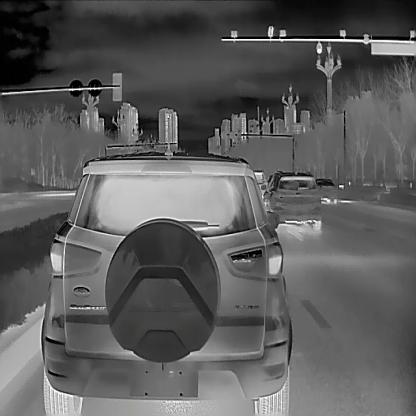car: (41, 150, 292, 414), (262, 167, 320, 230), (314, 177, 336, 202)
